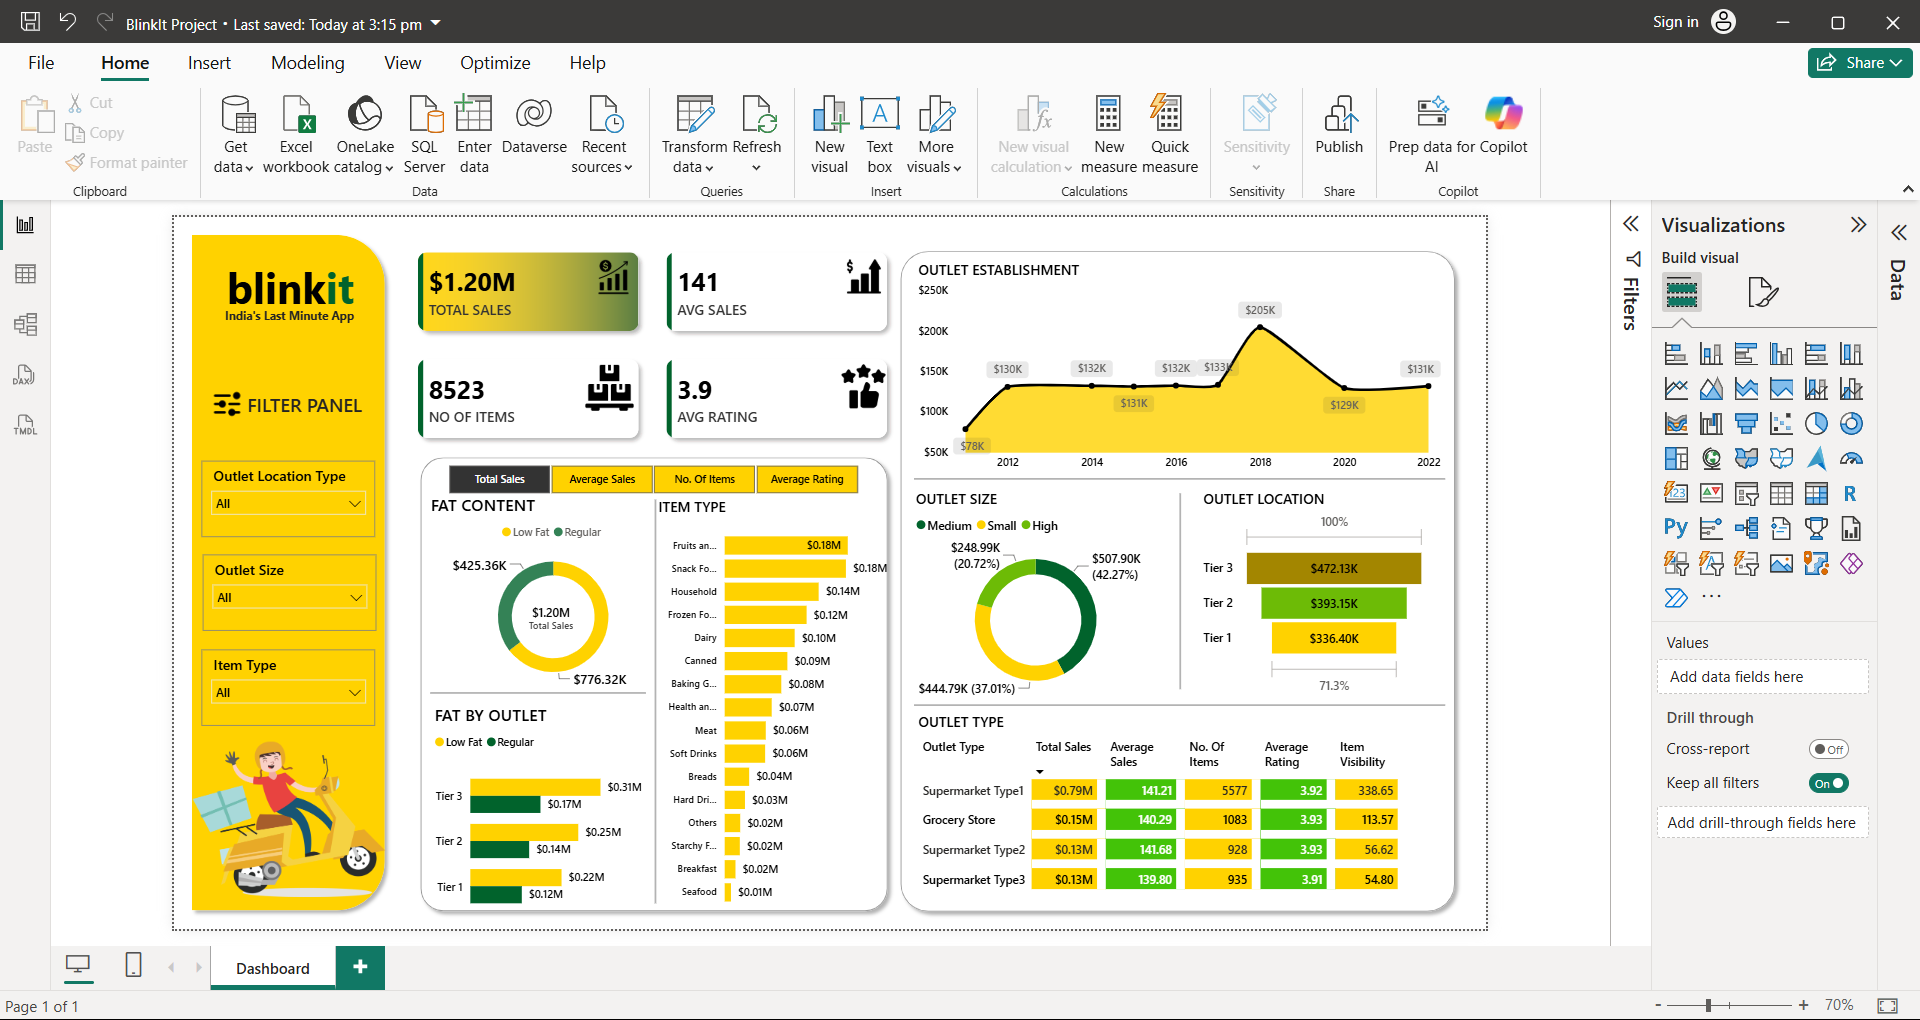

This screenshot's page, from the dashboard's own definition file:
{"tool":"powerbi","page":{"name":"Dashboard","canvas":[1500,813],"ordinal":0},"visuals":[{"type":"shape","box":[11.7,11.7,238.3,790],"z":0},{"type":"textbox","box":[33.3,98.3,198.3,38.3],"z":1000},{"type":"textbox","box":[35,43.3,195,75],"z":2000},{"type":"cardVisual","fields":{"Data":["BlinkIT Grocery Data.Total Sales","BlinkIT Grocery Data.Average Sales","BlinkIT Grocery Data.No. Of Items","BlinkIT Grocery Data.Average Rating"]},"box":[250,11.7,595,270],"z":3000},{"type":"shape","box":[273.3,265,551.7,536.7],"z":4000},{"type":"donutChart","title":"FAT CONTENT","fields":{"Y":["BlinkIT Grocery Data.Total Sales"],"Category":["BlinkIT Grocery Data.Item Fat Content"]},"box":[288.3,315,290,230],"z":5000},{"type":"slicer","fields":{"Values":["MATRICS.MATRICS"]},"box":[288.3,276.7,516.7,45],"z":6000},{"type":"cardVisual","fields":{"Data":["BlinkIT Grocery Data.Total Sales"]},"box":[345,406.7,173.3,101.7],"z":7000},{"type":"clusteredBarChart","title":"FAT BY OUTLET","fields":{"Y":["BlinkIT Grocery Data.Total Sales"],"Category":["BlinkIT Grocery Data.Outlet Location Type"],"Series":["BlinkIT Grocery Data.Item Fat Content"]},"box":[293.3,556.3,246.7,256.7],"z":8000},{"type":"shape","box":[293.3,531.7,246.7,25],"z":9000},{"type":"shape","box":[518.3,323.3,63.3,461.7],"z":10000},{"type":"barChart","title":"ITEM TYPE","fields":{"Y":["BlinkIT Grocery Data.Total Sales"],"Category":["BlinkIT Grocery Data.Item Type"]},"box":[548.3,320,273.3,478.3],"z":11000},{"type":"shape","box":[821.4,30,651.4,772.9],"z":12000},{"type":"areaChart","title":"OUTLET ESTABLISHMENT","fields":{"Category":["BlinkIT Grocery Data.Outlet Establishment Year"],"Y":["BlinkIT Grocery Data.Total Sales"]},"box":[845.7,48.6,607.1,250],"z":13000},{"type":"shape","box":[845.7,277.1,607.1,44.3],"z":14000},{"type":"donutChart","title":"OUTLET SIZE","fields":{"Y":["BlinkIT Grocery Data.Total Sales"],"Category":["BlinkIT Grocery Data.Outlet Size"]},"box":[842.9,310.4,284.3,250],"z":15000},{"type":"shape","box":[845.7,535.7,607.1,44.3],"z":16000},{"type":"shape","box":[1118.6,316.1,62.9,224.3],"z":17000},{"type":"funnel","title":"OUTLET LOCATION","fields":{"Category":["BlinkIT Grocery Data.Outlet Location Type"],"Y":["BlinkIT Grocery Data.Total Sales"]},"box":[1171.4,310.4,264.3,241.4],"z":18000},{"type":"pivotTable","title":"OUTLET TYPE","fields":{"Rows":["BlinkIT Grocery Data.Outlet Type"],"Values":["BlinkIT Grocery Data.Total Sales","BlinkIT Grocery Data.Average Sales","BlinkIT Grocery Data.No. Of Items","BlinkIT Grocery Data.Average Rating","Sum(BlinkIT Grocery Data.Item Visibility)"]},"box":[845.7,565.7,607.1,214.3],"z":19000},{"type":"slicer","fields":{"Values":["BlinkIT Grocery Data.Outlet Location Type"]},"box":[31.4,278.6,198.6,87.1],"z":20000},{"type":"slicer","fields":{"Values":["BlinkIT Grocery Data.Outlet Size"]},"box":[32.9,385.7,198.6,87.1],"z":21000},{"type":"slicer","fields":{"Values":["BlinkIT Grocery Data.Item Type"]},"box":[31.4,494.3,198.6,87.1],"z":22000},{"type":"textbox","box":[50,194.3,198.6,38.6],"z":23000},{"type":"image","box":[44.3,175.7,32.9,75.7],"z":24000},{"type":"image","box":[474.3,48.6,55.7,40],"z":25000},{"type":"image","box":[735.7,47.1,105.7,41.4],"z":26000},{"type":"image","box":[762.9,164.3,50,58.6],"z":27000},{"type":"image","box":[455.7,167.1,84.3,55.7],"z":28000},{"type":"image","box":[21.4,597.1,220,182.9],"z":29000}]}

Visuals, with their boxes on the page's 1500x813 design canvas (x1, y1, x2, y2). These are canvas units, not pixel positions in the 1920x1020 screenshot, which may show the page scaled, cropped or inside an application window:
shape: <box>12,12,250,802</box>
textbox: <box>33,98,232,137</box>
textbox: <box>35,43,230,118</box>
cardVisual - BlinkIT Grocery Data.Total Sales x BlinkIT Grocery Data.Average Sales: <box>250,12,845,282</box>
shape: <box>273,265,825,802</box>
"FAT CONTENT" donutChart: <box>288,315,578,545</box>
slicer - MATRICS.MATRICS: <box>288,277,805,322</box>
cardVisual - BlinkIT Grocery Data.Total Sales: <box>345,407,518,508</box>
"FAT BY OUTLET" clusteredBarChart: <box>293,556,540,813</box>
shape: <box>293,532,540,557</box>
shape: <box>518,323,582,785</box>
"ITEM TYPE" barChart: <box>548,320,822,798</box>
shape: <box>821,30,1473,803</box>
"OUTLET ESTABLISHMENT" areaChart: <box>846,49,1453,299</box>
shape: <box>846,277,1453,321</box>
"OUTLET SIZE" donutChart: <box>843,310,1127,560</box>
shape: <box>846,536,1453,580</box>
shape: <box>1119,316,1182,540</box>
"OUTLET LOCATION" funnel: <box>1171,310,1436,552</box>
"OUTLET TYPE" pivotTable: <box>846,566,1453,780</box>
slicer - BlinkIT Grocery Data.Outlet Location Type: <box>31,279,230,366</box>
slicer - BlinkIT Grocery Data.Outlet Size: <box>33,386,232,473</box>
slicer - BlinkIT Grocery Data.Item Type: <box>31,494,230,581</box>
textbox: <box>50,194,249,233</box>
image: <box>44,176,77,251</box>
image: <box>474,49,530,89</box>
image: <box>736,47,841,88</box>
image: <box>763,164,813,223</box>
image: <box>456,167,540,223</box>
image: <box>21,597,241,780</box>
